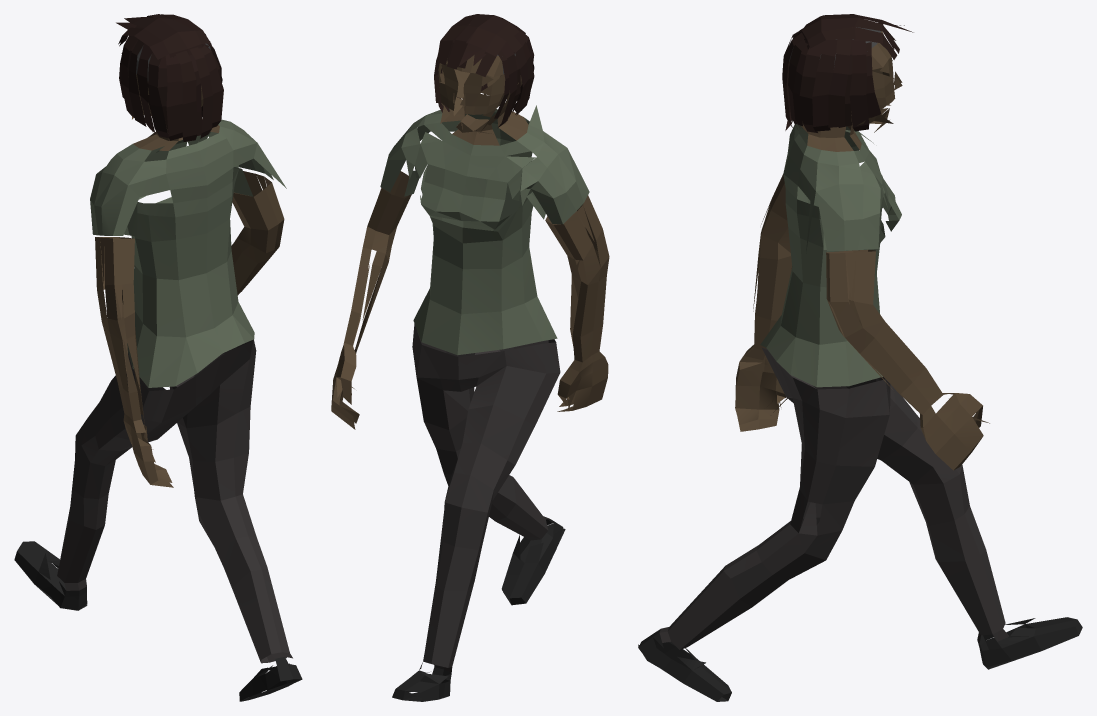
Rendered from person_7_w1.fbx.
3 renders of one model, left to right at view 1: azimuth 30°, elevation 25°; view 2: azimuth 150°, elevation 25°; view 3: azimuth 270°, elevation 25°, orthographic. The views are drawn at different scales.
Parts seen in each view (by area): view 1: Female; view 2: Female; view 3: Female.
Part boxes in pixels (left/top/right/bottom): Female: left=14, top=14, right=302, bottom=701; Female: left=331, top=14, right=609, bottom=701; Female: left=638, top=14, right=1082, bottom=701.
Size of the model in its own units: 0.3301 by 1 by 0.6021.
